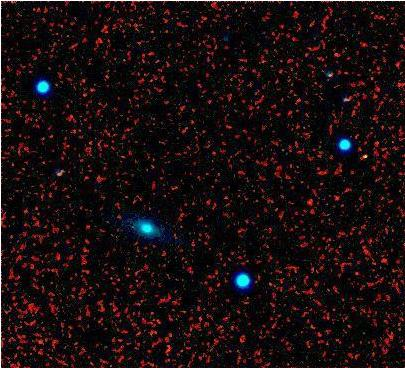star: (345, 142, 375, 172)
